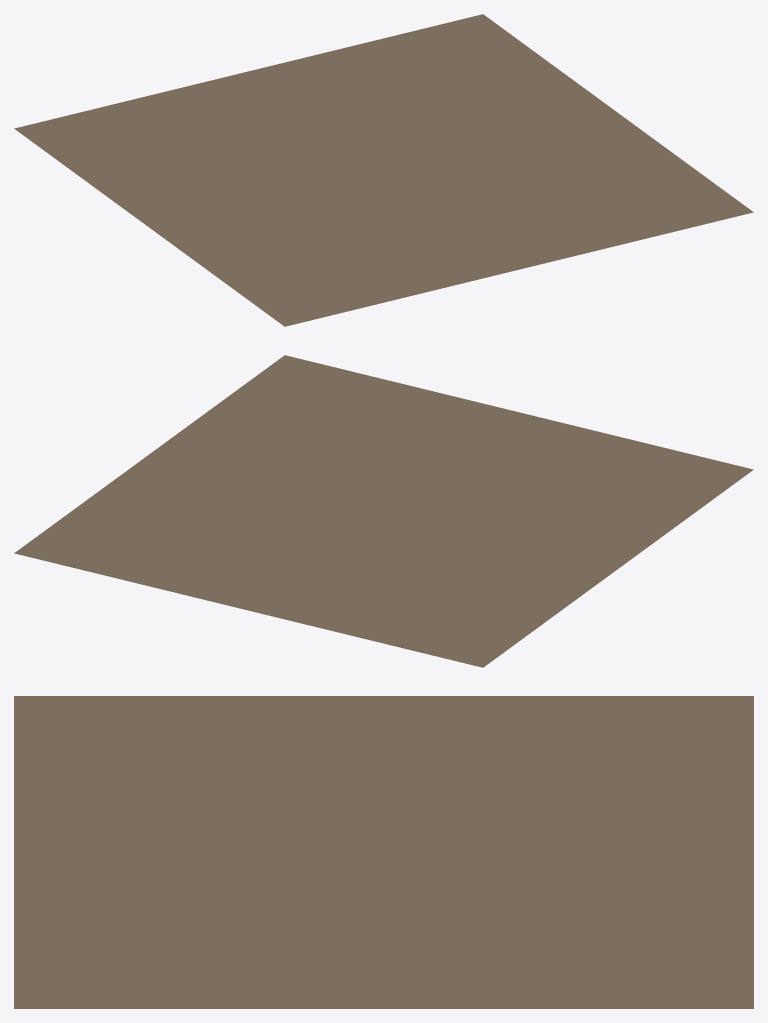
3 renders of one model, top to bottom at view 1: azimuth 30°, elevation 25°; view 2: azimuth 150°, elevation 25°; view 3: azimuth 270°, elevation 25°, orthographic. The views are drawn at different scales.
Size of the model in its own units: 0.1875 by 0 by 0.1875.
1 material, 1 textured.
